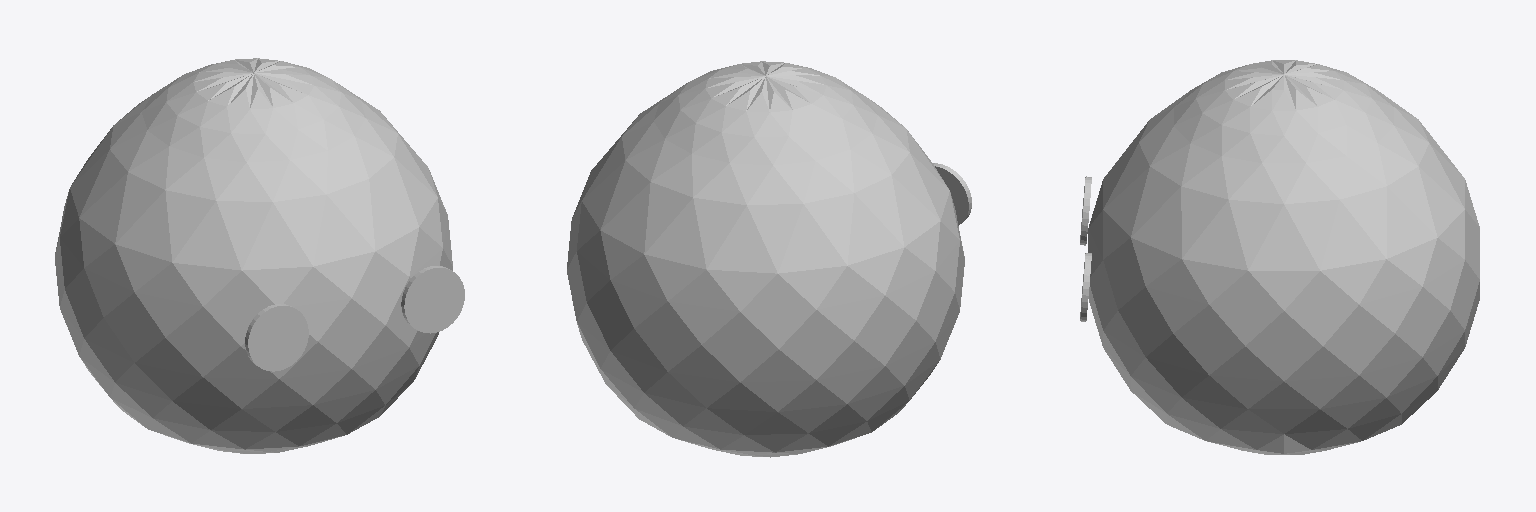
File: Prot-Slime 3d.obj
3 renders of one model, left to right at view 1: azimuth 30°, elevation 25°; view 2: azimuth 150°, elevation 25°; view 3: azimuth 270°, elevation 25°, orthographic.
Parts seen in each view (by area): view 1: Sphere; view 2: Sphere; view 3: Sphere.
Boxes of the visible parts, box(x1,y1,x2,y2) form: Sphere: box(55, 58, 464, 453); Sphere: box(567, 61, 971, 457); Sphere: box(1080, 60, 1479, 454).
Size of the model in its own units: 2 by 2.04 by 2.04.